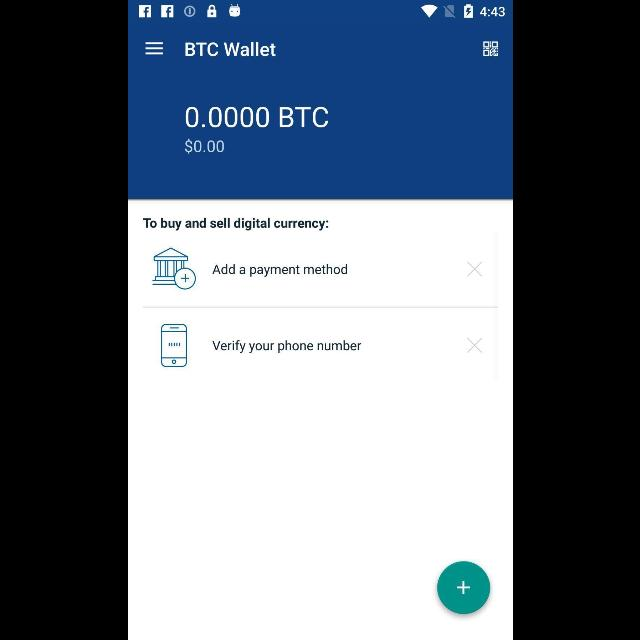button: (436, 562, 490, 614)
icon: (152, 247, 196, 290), (466, 338, 482, 354), (466, 261, 482, 277), (145, 42, 163, 56)
image: (160, 324, 186, 366), (482, 41, 498, 57)
text: (184, 106, 328, 128), (142, 218, 328, 232), (212, 341, 361, 354), (212, 264, 346, 278), (184, 42, 276, 56), (184, 138, 223, 154)
uppertaskbar: (128, 1, 512, 23)
